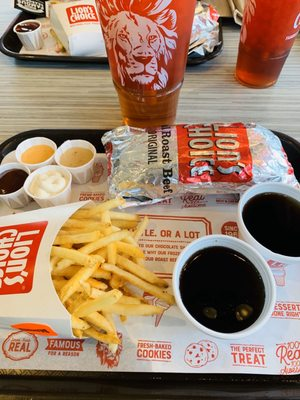pizza: (95, 0, 198, 128), (235, 182, 300, 290), (234, 0, 300, 89), (0, 163, 31, 210)
sushi: (172, 234, 276, 341), (236, 182, 300, 264), (24, 165, 73, 208), (54, 139, 97, 185), (14, 136, 57, 172), (0, 162, 31, 210)
